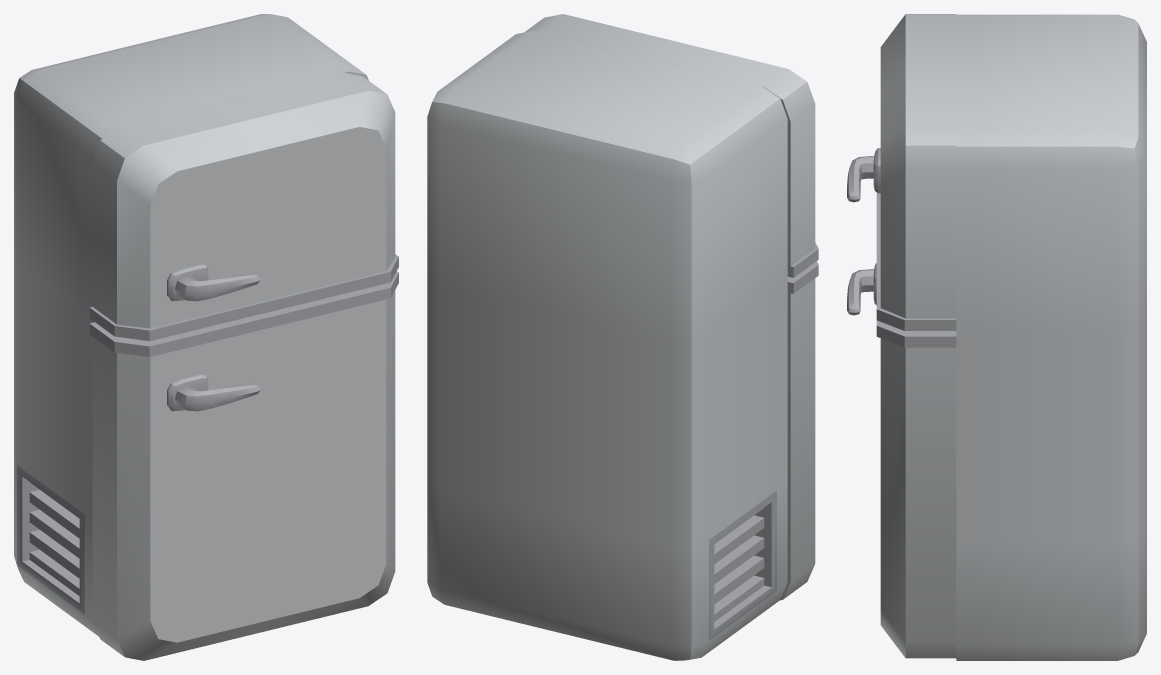
File: fridge.glb
3 views of the same model, side by side, from view 1: azimuth 30°, elevation 25°; view 2: azimuth 150°, elevation 25°; view 3: azimuth 270°, elevation 25° (orthographic). The views are drawn at different scales.
Visible parts, largest first — view 1: door, fridge; view 2: fridge, door; view 3: fridge, door.
Part boxes in pixels (x1=…): door: x1=89, y1=73, x2=398, y2=660; fridge: x1=14, y1=14, x2=368, y2=636; fridge: x1=427, y1=31, x2=787, y2=660; door: x1=524, y1=14, x2=818, y2=600; fridge: x1=956, y1=14, x2=1146, y2=660; door: x1=847, y1=14, x2=956, y2=658.
Size of the model in its own units: 0.9347 by 1.62 by 0.8311.
Materials: 1 (1 with a texture image).
